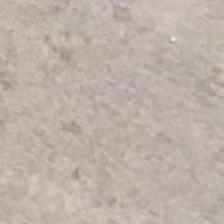Non_Crack: (19, 23, 204, 216)
